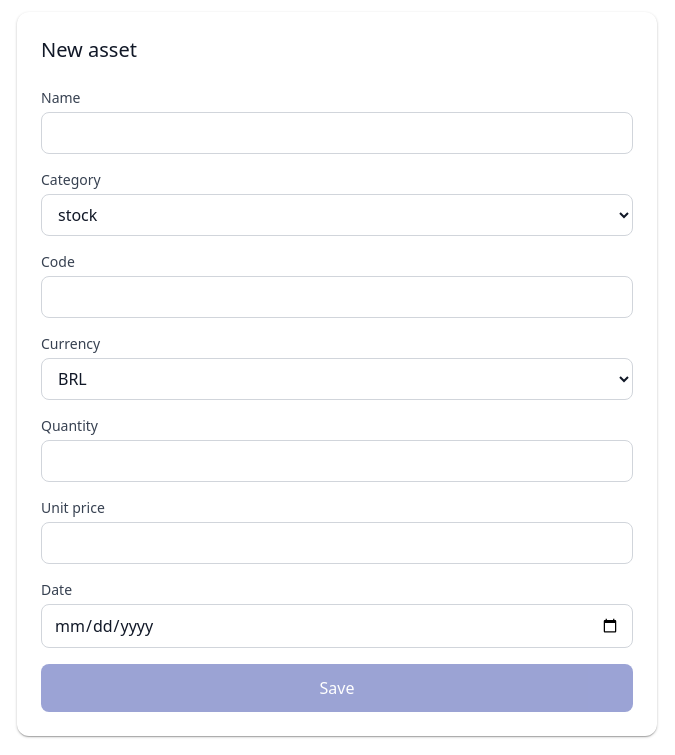
Test: AssetForm › hides Code but shows Currency for a bond
The width and height of the screenshot is (675, 755).
Select "bond" in the dropdown labelled "Category" at (337, 215), box [41,194,633,236]
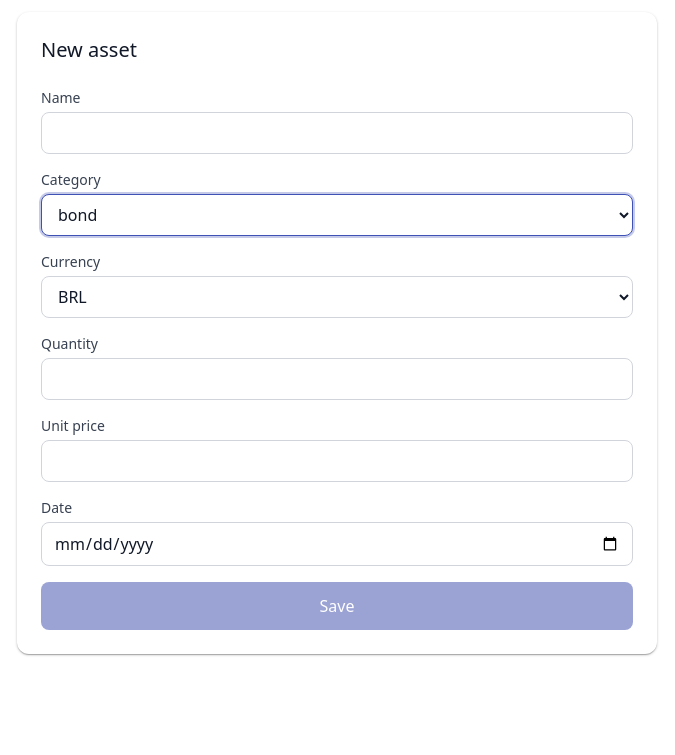
Expected: the dropdown labelled "Currency" is shown, [41,276,633,318]
Expected: the text labelled "Code" is gone
